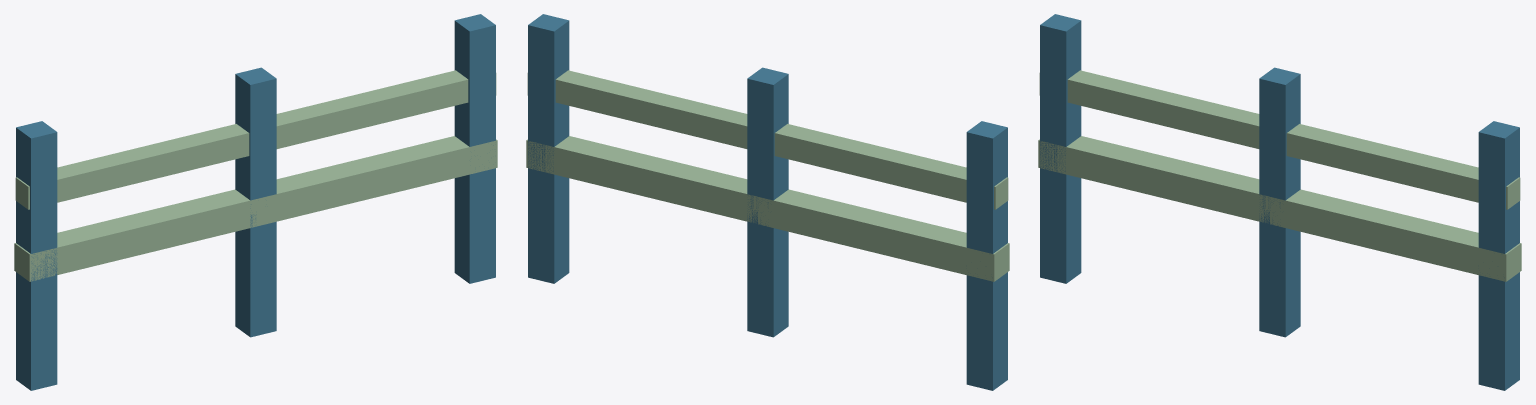
Rendered from wind_fence.glb.
3 views of the same model, side by side, from view 1: azimuth 30°, elevation 25°; view 2: azimuth 150°, elevation 25°; view 3: azimuth 330°, elevation 25° (orthographic).
Visible parts, largest first — view 1: rail, rail_upper, post_-15, post_0, post_15; view 2: rail, rail_upper, post_15, post_0, post_-15; view 3: rail, rail_upper, post_-15, post_0, post_15.
Part boxes in pixels (x1=…): rail: x1=14, y1=136, x2=497, y2=281; rail_upper: x1=15, y1=70, x2=496, y2=209; post_-15: x1=16, y1=121, x2=57, y2=390; post_0: x1=235, y1=67, x2=276, y2=337; post_15: x1=454, y1=14, x2=495, y2=283; rail: x1=526, y1=136, x2=1009, y2=281; rail_upper: x1=527, y1=70, x2=1008, y2=209; post_15: x1=528, y1=14, x2=569, y2=283; post_0: x1=747, y1=67, x2=788, y2=337; post_-15: x1=966, y1=121, x2=1007, y2=390; rail: x1=1038, y1=136, x2=1521, y2=281; rail_upper: x1=1039, y1=70, x2=1520, y2=209; post_-15: x1=1040, y1=14, x2=1081, y2=283; post_0: x1=1259, y1=67, x2=1300, y2=337; post_15: x1=1478, y1=121, x2=1519, y2=390.
Size of what is drawn, in the model's own units: 3.2 by 1.65 by 0.18.
